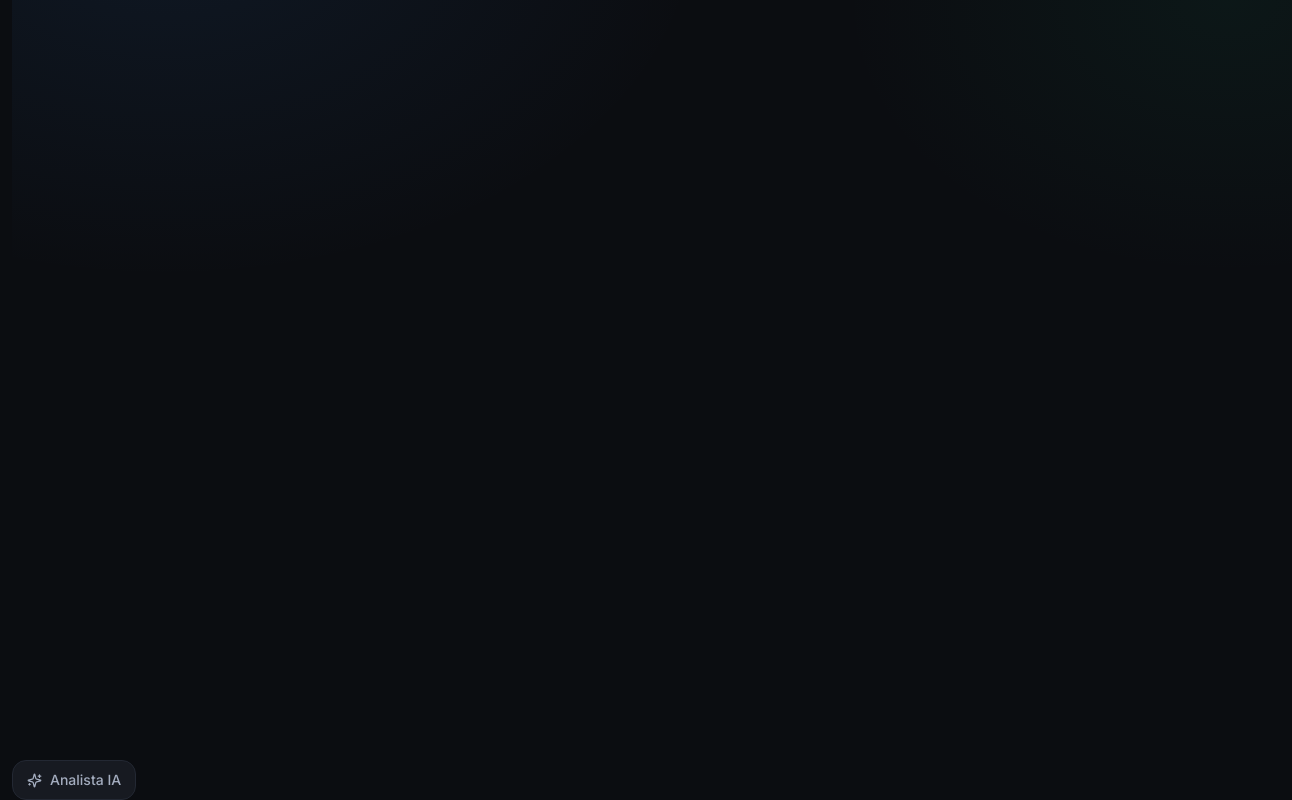
Test: AssetChat history › says so when nothing is saved yet
This screenshot has width=1292, height=800.
(page scrolled)
Click the button "Analista IA" at (74, 780), box [12,760,136,799]
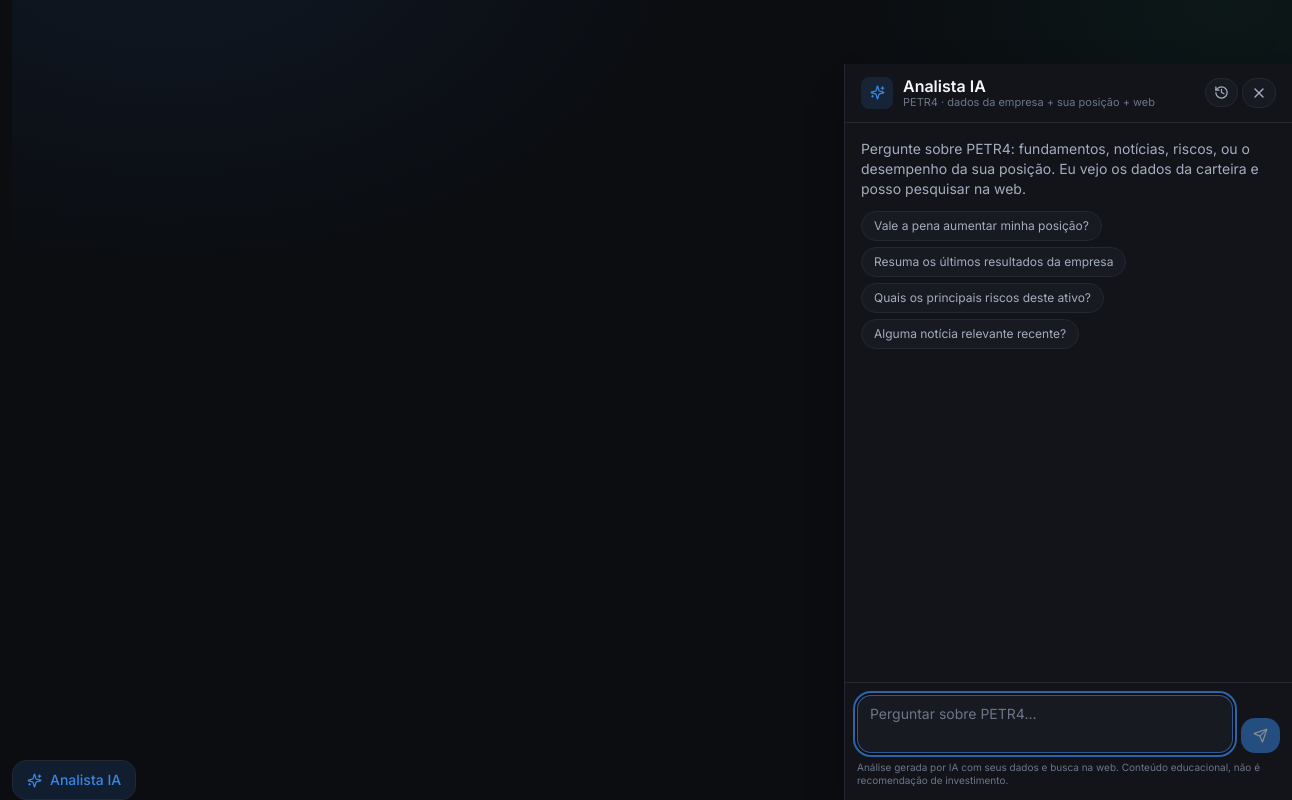
Click the button named "Conversas anteriores" at (1222, 93), box [1205,78,1238,107]
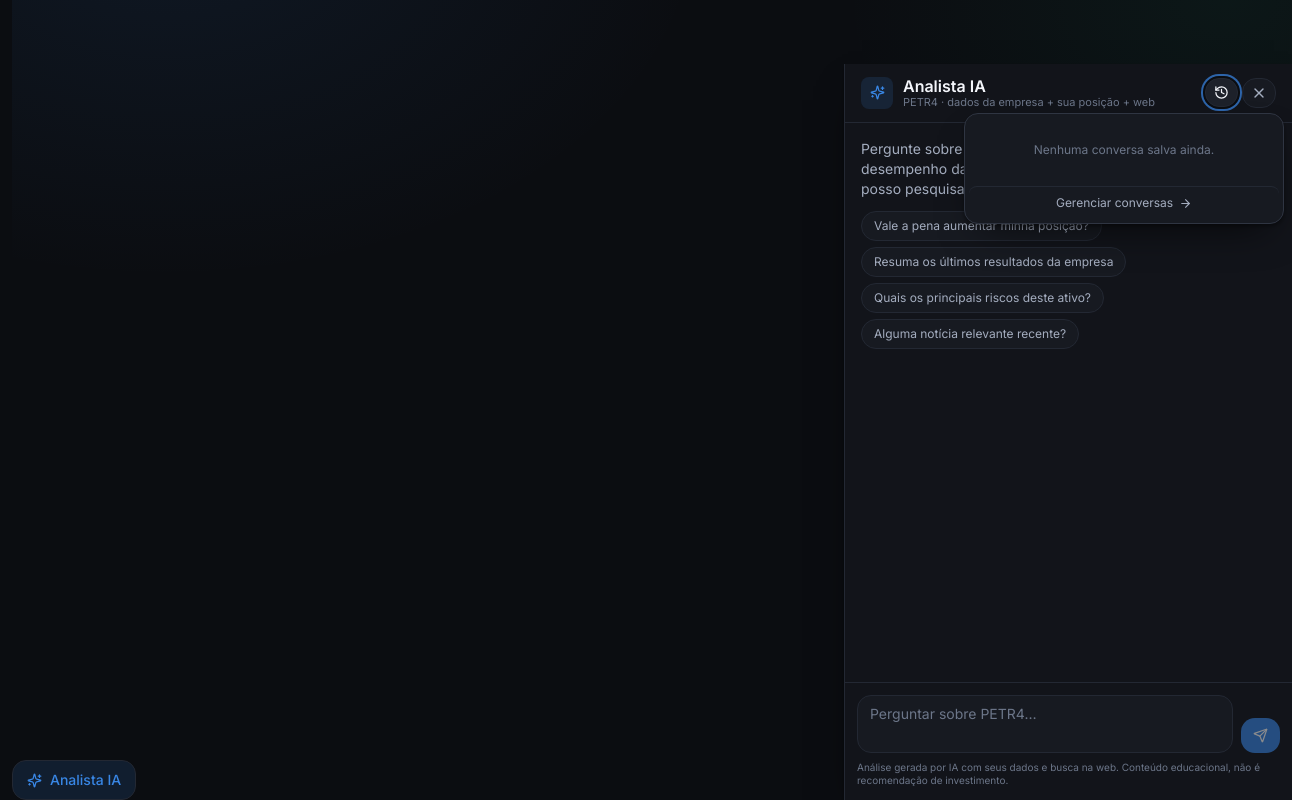
Expected: the text "Nenhuma conversa salva ainda." is shown, [1034,142,1214,157]
